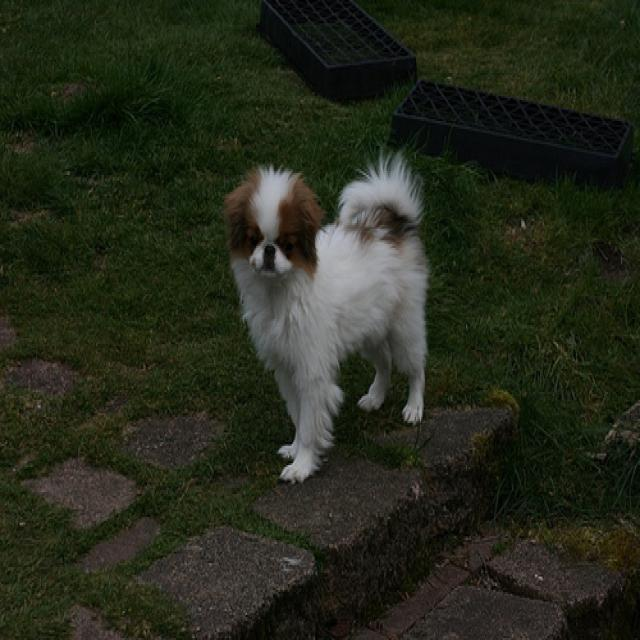dog-japanese_chin: (215, 136, 435, 490)
